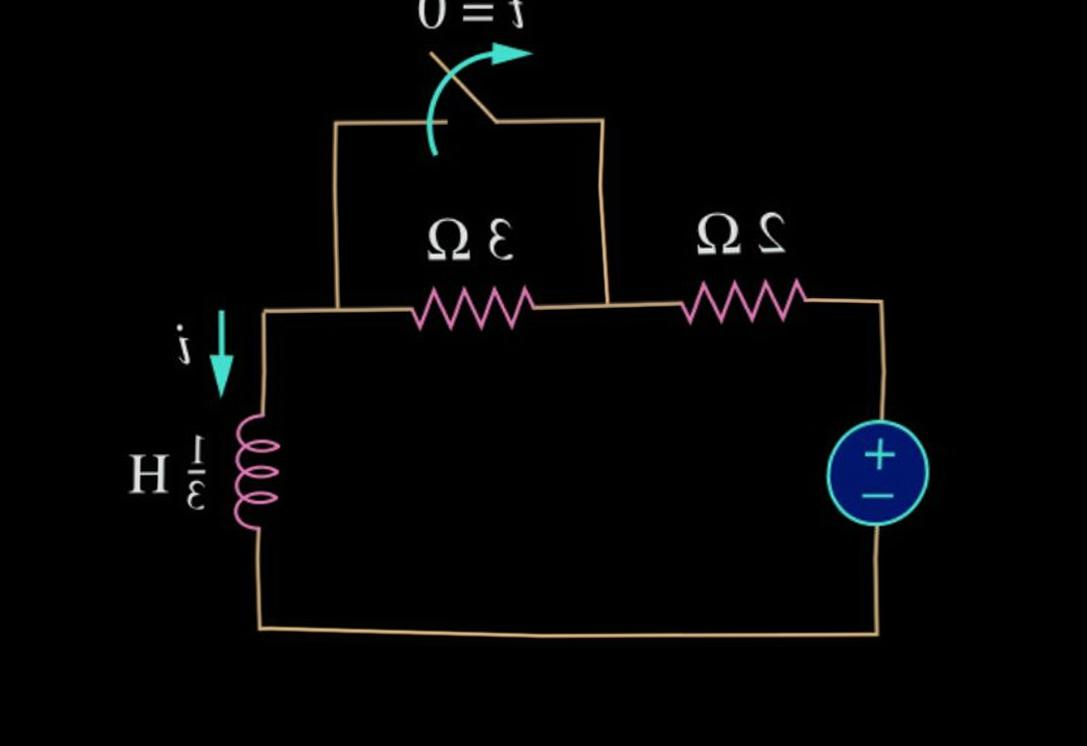Battery: (790, 397, 950, 553)
